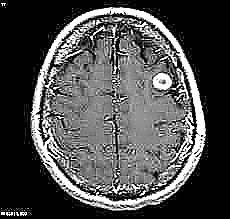Tumor: (146, 74, 176, 92)
